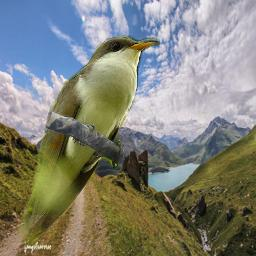Cuckoo: (16, 35, 160, 247)
